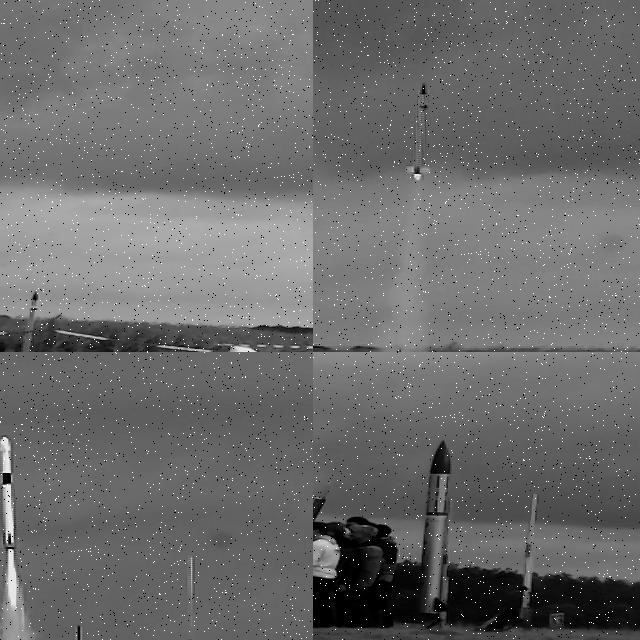Rocket: (394, 439, 451, 615), (404, 81, 432, 175), (0, 433, 17, 550), (11, 289, 38, 352), (313, 479, 335, 548)
